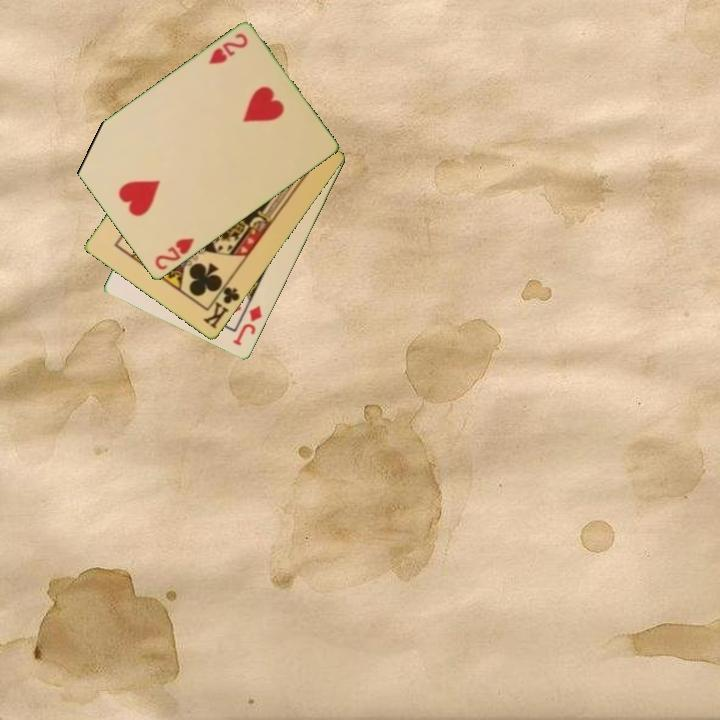2h: (151, 235, 197, 274), (205, 30, 251, 68)
Jd: (230, 302, 265, 349)
Kc: (200, 277, 243, 332)
